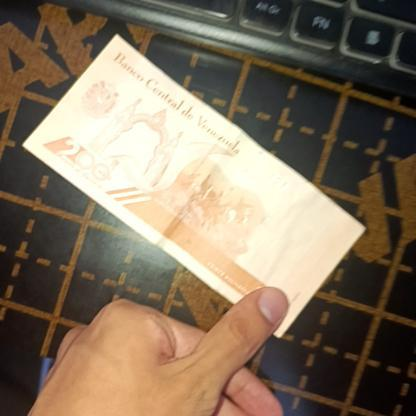twenty-back-vef: (20, 50, 368, 338)
